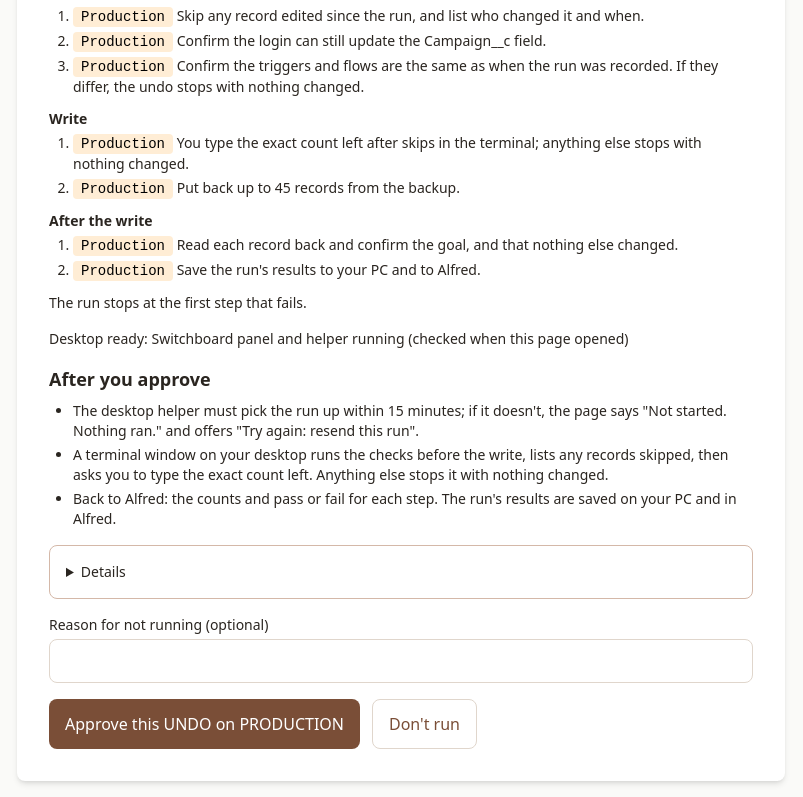
the red bar and the Approve button always appear together › undo, desktop ready, then approved
This screenshot has width=803, height=797.
(page scrolled)
Check: the text with test id "run-desktop" does not show "Checking", box [49,329,628,348]
Click the button "Approve this UNDO on PRODUCTION". click: (204, 724)
box: [49,699,360,749]
(page scrolled)
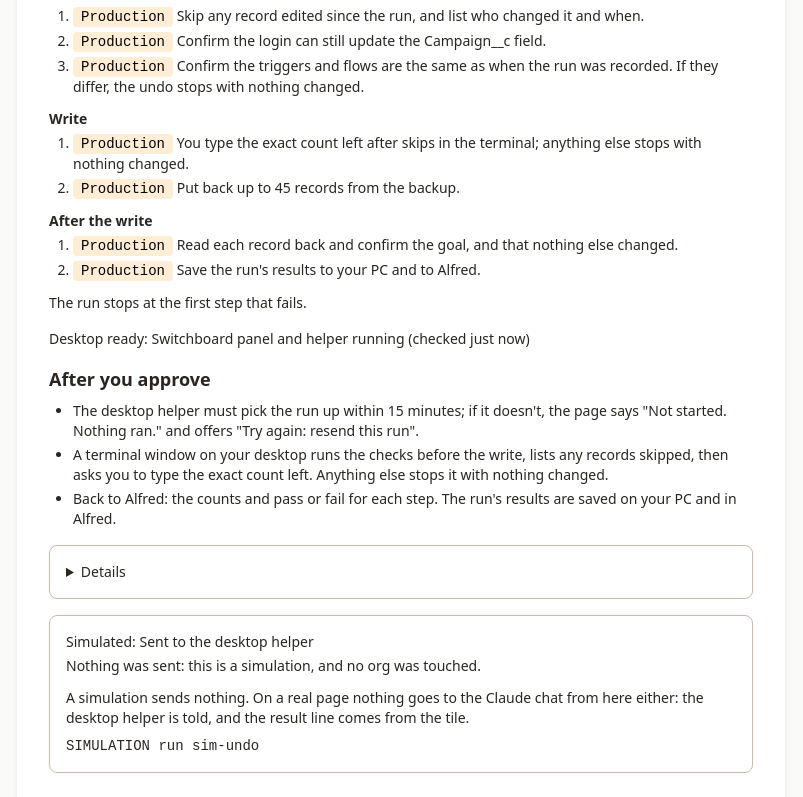
Check: the element with test id "run-sent" is shown, box [49,615,753,773]
